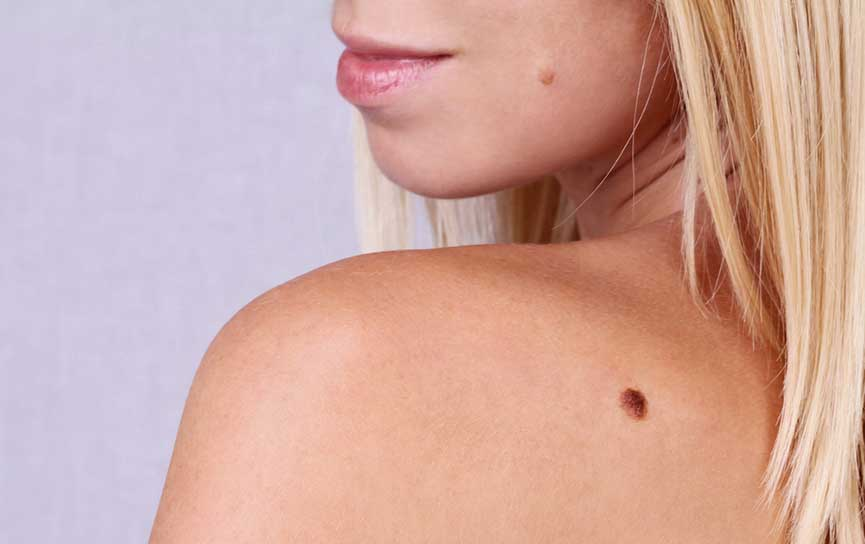mole: (605, 378, 661, 431), (528, 58, 561, 91)
